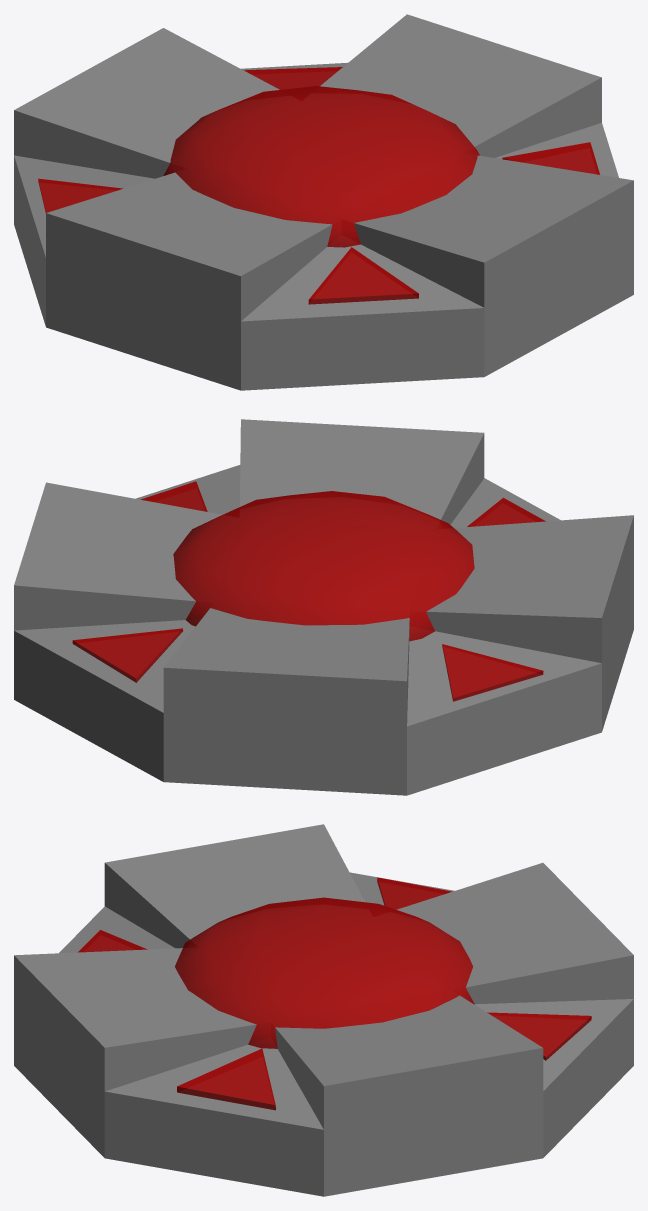
Rendered from BaseModel.fbx.
3 views of the same model, one above another, from view 1: azimuth 30°, elevation 25°; view 2: azimuth 150°, elevation 25°; view 3: azimuth 270°, elevation 25° (orthographic). The views are drawn at different scales.
Parts seen in each view (by area): view 1: pCylinder1, pCube1, pCylinder5, pCylinder6, pCylinder4, pCylinder7; view 2: pCylinder1, pCube1, pCylinder4, pCylinder7, pCylinder5, pCylinder6; view 3: pCylinder1, pCube1, pCylinder6, pCylinder7, pCylinder4, pCylinder5.
Part boxes in pixels (left/top/right/bottom): pCylinder1: left=14, top=14, right=633, bottom=390; pCube1: left=163, top=86, right=479, bottom=247; pCylinder5: left=308, top=247, right=418, bottom=304; pCylinder6: left=502, top=142, right=599, bottom=174; pCylinder4: left=38, top=178, right=122, bottom=212; pCylinder7: left=244, top=67, right=342, bottom=89; pCylinder1: left=14, top=419, right=633, bottom=795; pCube1: left=173, top=491, right=474, bottom=641; pCylinder4: left=442, top=644, right=543, bottom=701; pCylinder7: left=72, top=628, right=182, bottom=682; pCylinder5: left=467, top=497, right=545, bottom=526; pCylinder6: left=141, top=481, right=207, bottom=511; pCylinder1: left=14, top=824, right=633, bottom=1196; pCube1: left=175, top=897, right=474, bottom=1048; pCylinder6: left=177, top=1048, right=275, bottom=1110; pCylinder7: left=487, top=1012, right=591, bottom=1060; pCylinder4: left=377, top=877, right=451, bottom=909; pCylinder5: left=78, top=930, right=147, bottom=952.
Size of the model in its own units: 2 by 0.4815 by 2.
